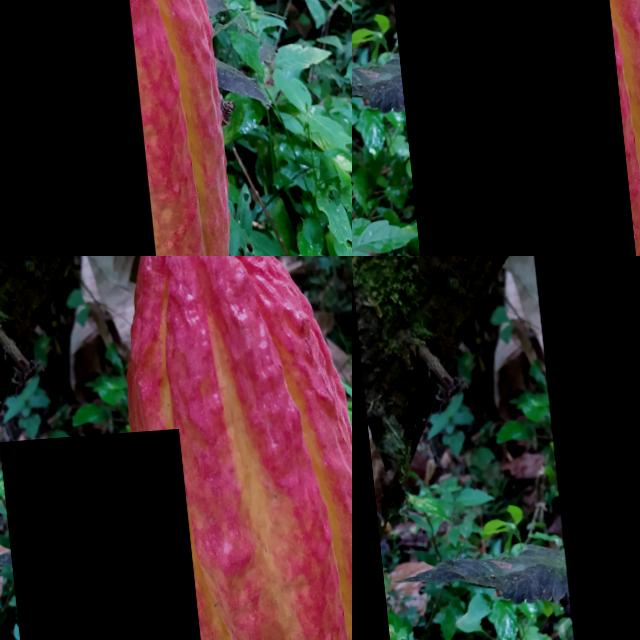Fitoftora: (0, 432, 206, 640)
Sana: (371, 0, 631, 256), (531, 256, 640, 640), (0, 0, 153, 256), (116, 256, 248, 531), (260, 387, 352, 640)
